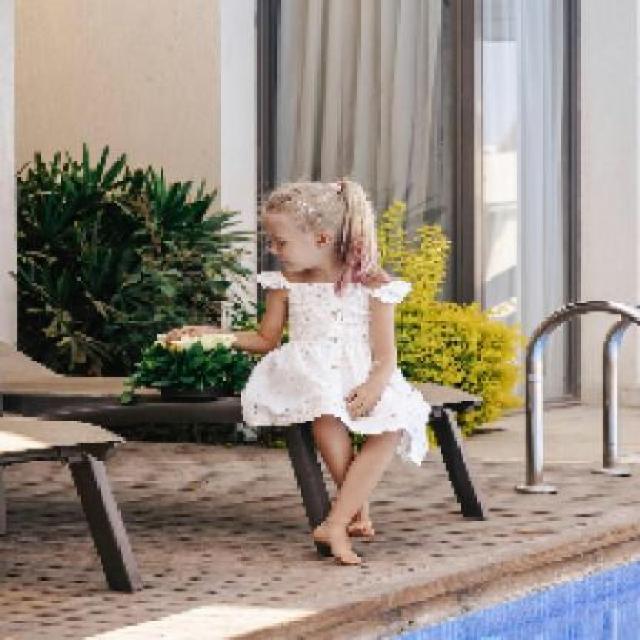child: (162, 177, 432, 569)
